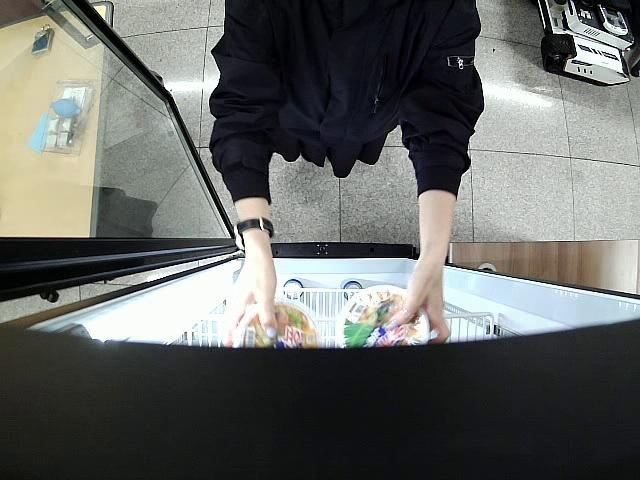09_yukGaeJang: (336, 284, 428, 346), (235, 296, 326, 347)
